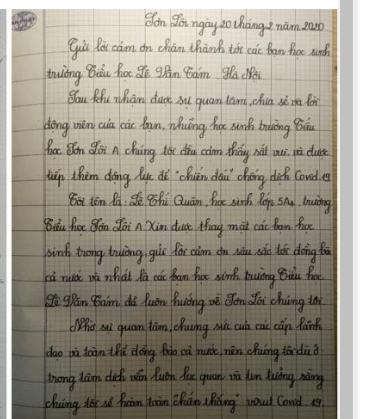text: (42, 363, 326, 394), (42, 137, 331, 166), (43, 289, 326, 318), (43, 264, 326, 292), (42, 241, 333, 268), (44, 164, 332, 190), (43, 214, 316, 241), (44, 391, 324, 417), (43, 340, 321, 366), (67, 189, 333, 216), (66, 36, 332, 62), (42, 114, 316, 139), (66, 87, 322, 113), (68, 314, 324, 339), (44, 62, 263, 89), (142, 10, 326, 38)
